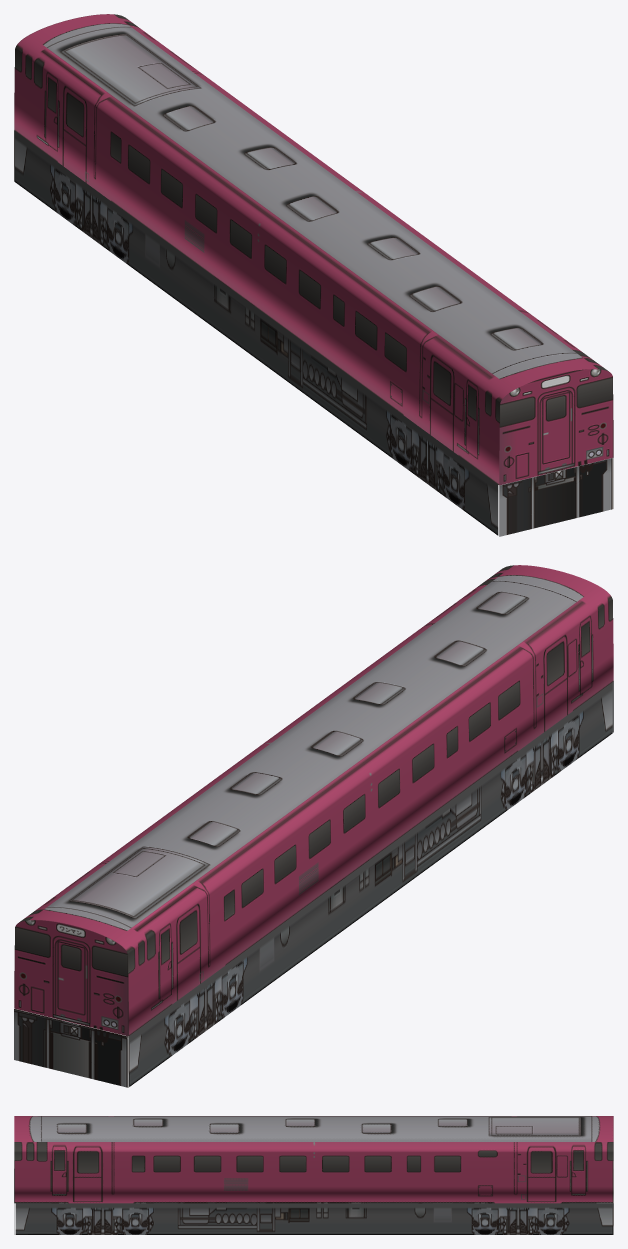
File: car1.glb
3 views of the same model, one above another, from view 1: azimuth 30°, elevation 25°; view 2: azimuth 150°, elevation 25°; view 3: azimuth 270°, elevation 25° (orthographic). The views are drawn at different scales.
Parts seen in each view (by area): view 1: jr-west-kiha40-car1; view 2: jr-west-kiha40-car1; view 3: jr-west-kiha40-car1.
Part boxes in pixels (box(x1,y1,x2,y2)): jr-west-kiha40-car1: box(14, 14, 613, 536); jr-west-kiha40-car1: box(14, 565, 613, 1087); jr-west-kiha40-car1: box(14, 1116, 613, 1234).
Size of the model in its own units: 2.9 by 3.6 by 21.33.
9 materials, 8 textured.
